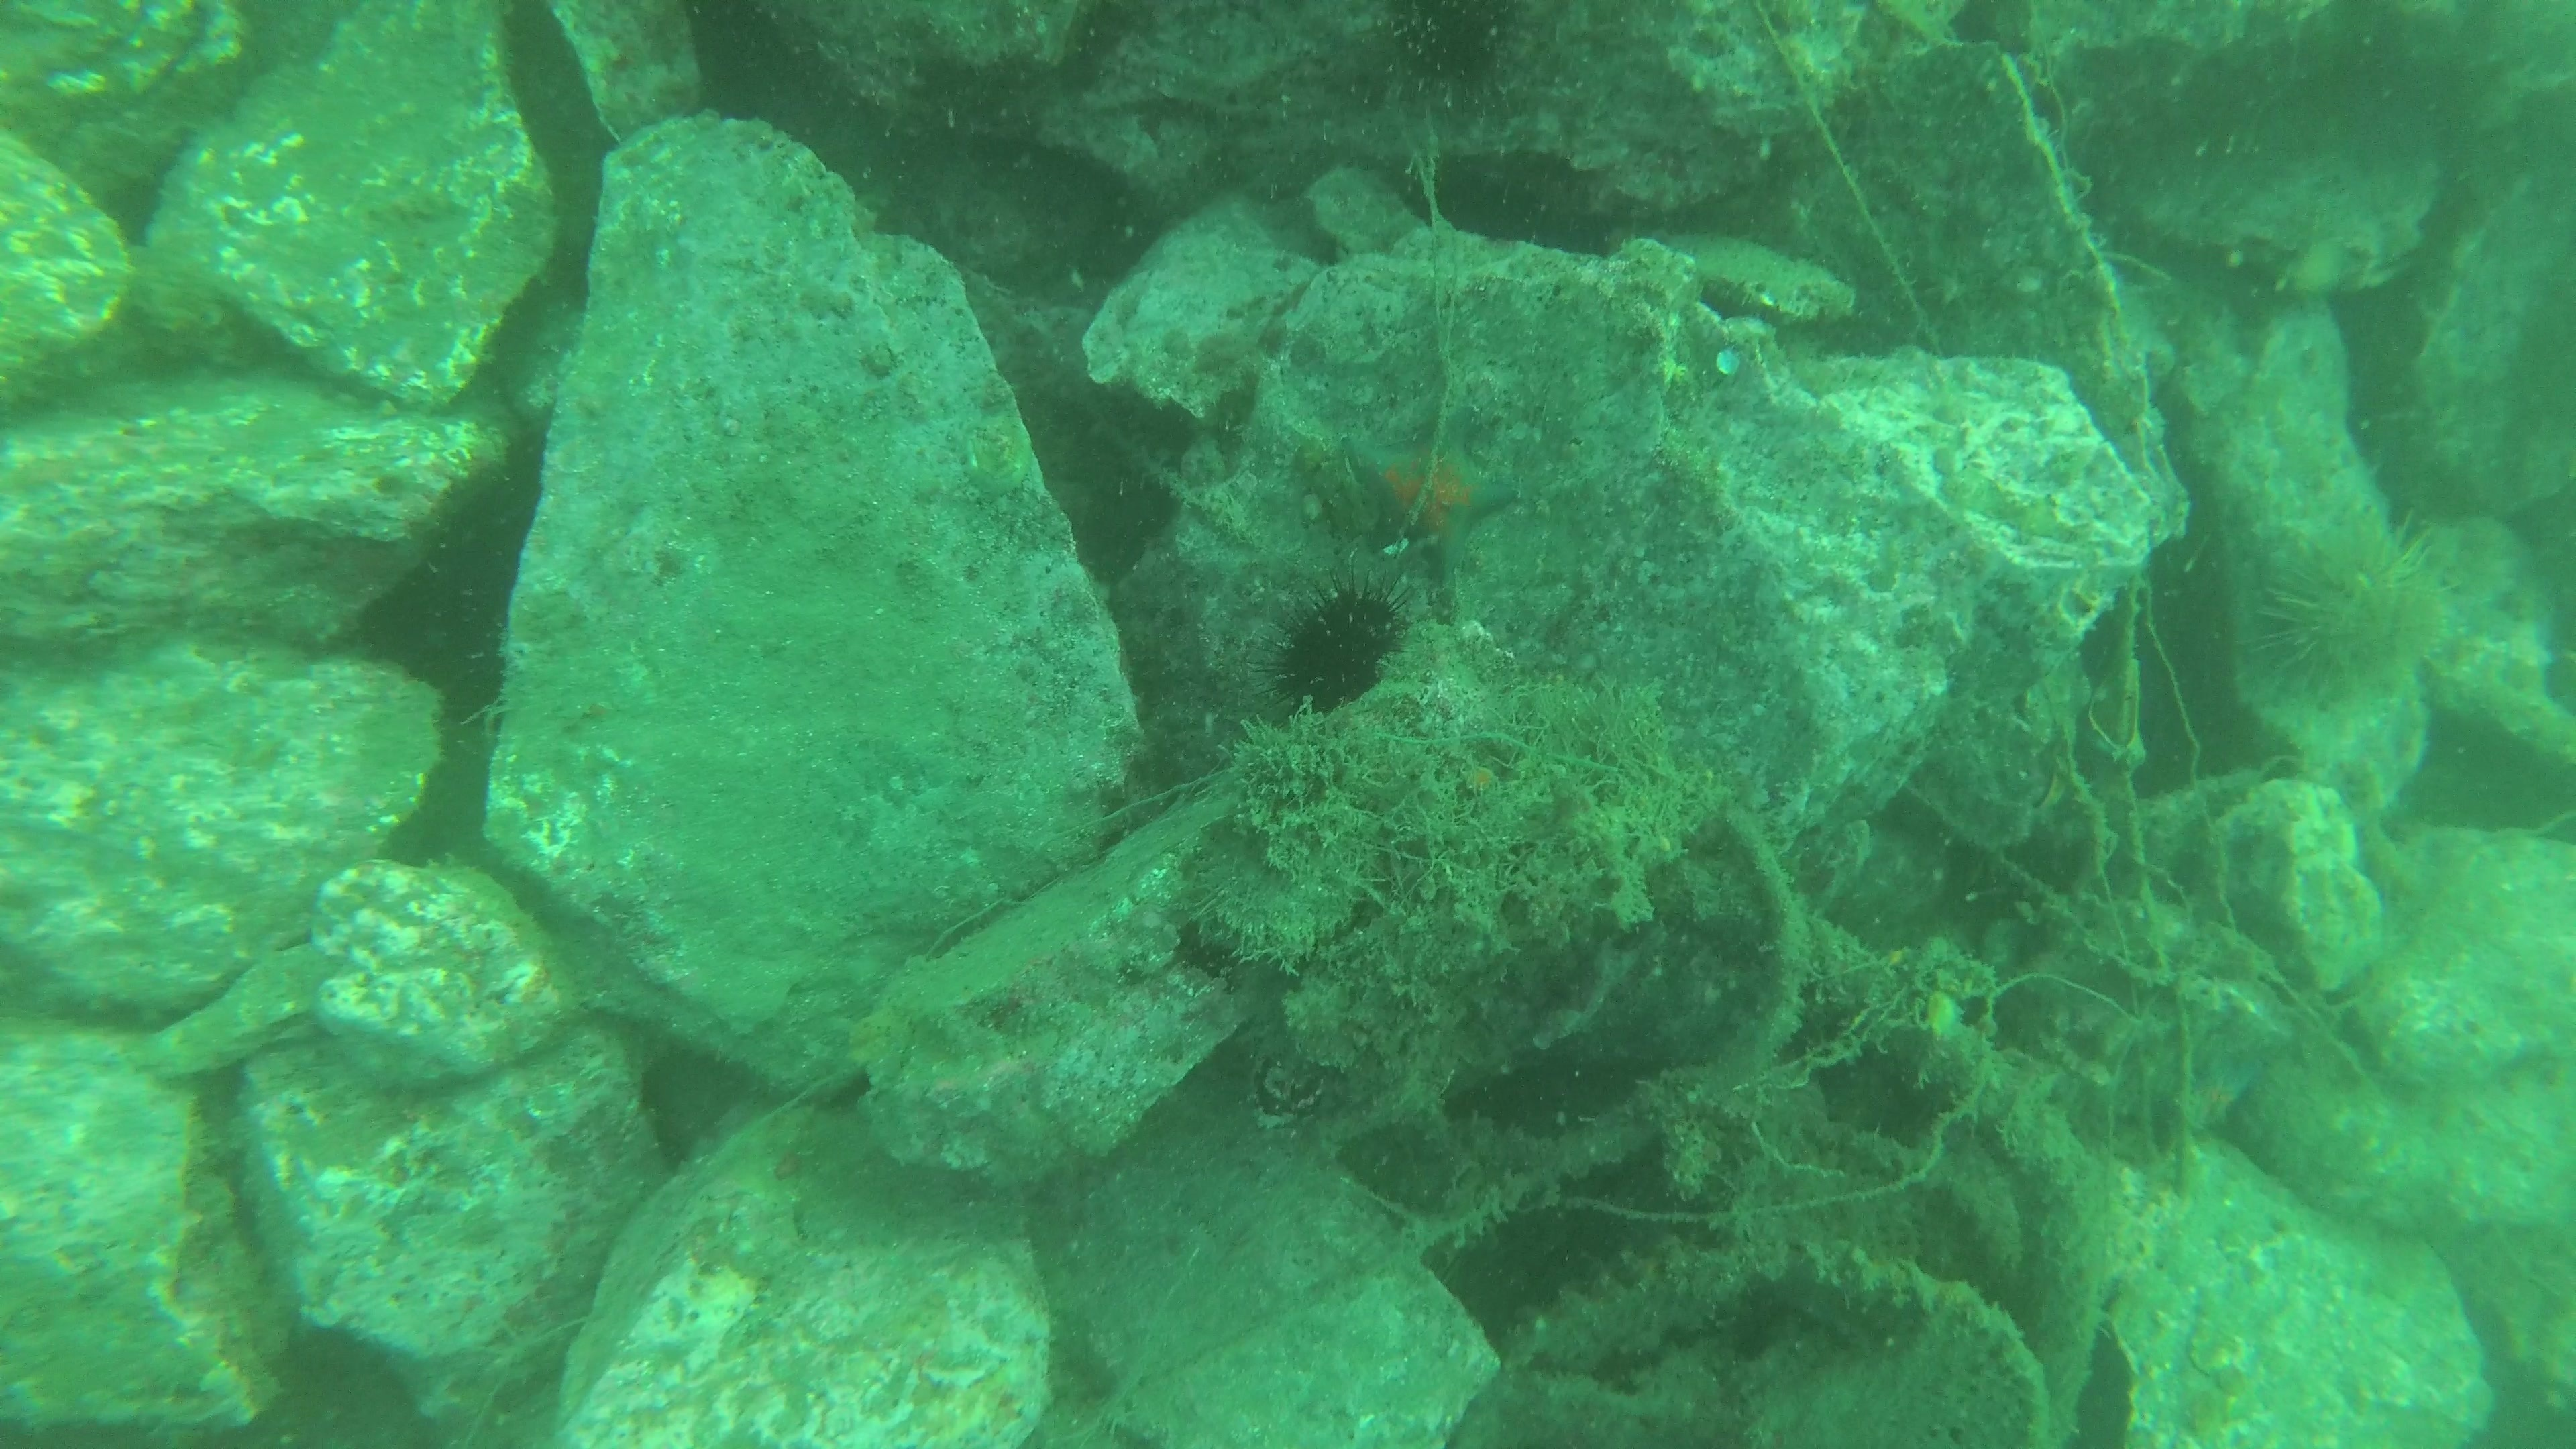echinus: (2254, 517, 2465, 704), (1332, 4, 1536, 126), (1267, 579, 1412, 718)
starfish: (1339, 414, 1523, 566)
